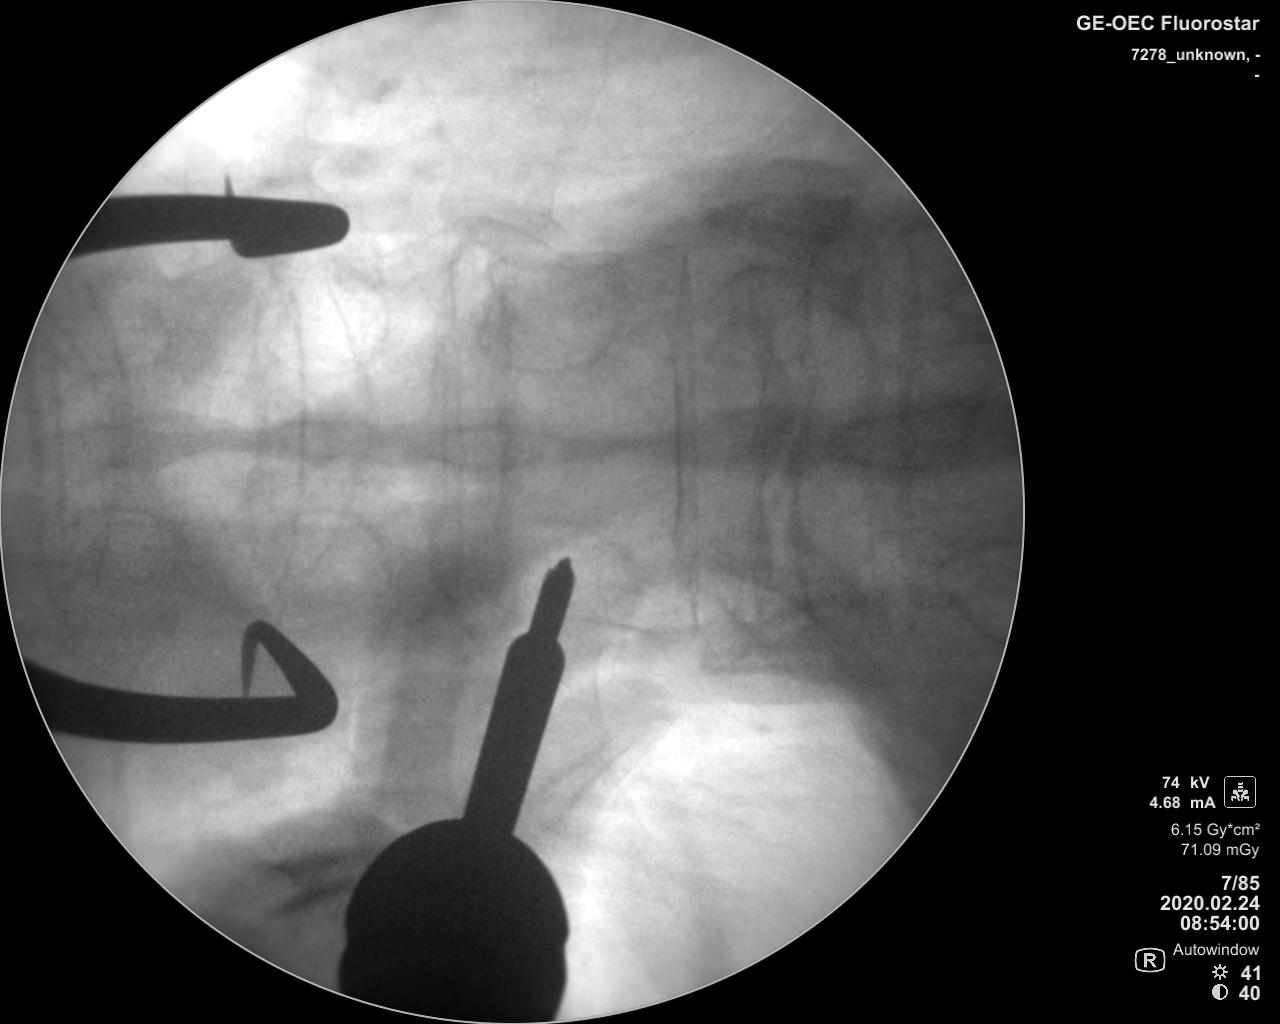eyes: (478, 261, 624, 370), (252, 267, 393, 372), (262, 507, 392, 609), (63, 504, 184, 600)
line: (233, 261, 311, 611), (662, 248, 709, 639), (433, 258, 471, 618)
nose: (624, 408, 806, 480), (404, 410, 599, 472), (822, 402, 982, 478), (230, 399, 389, 470), (55, 406, 224, 473)
